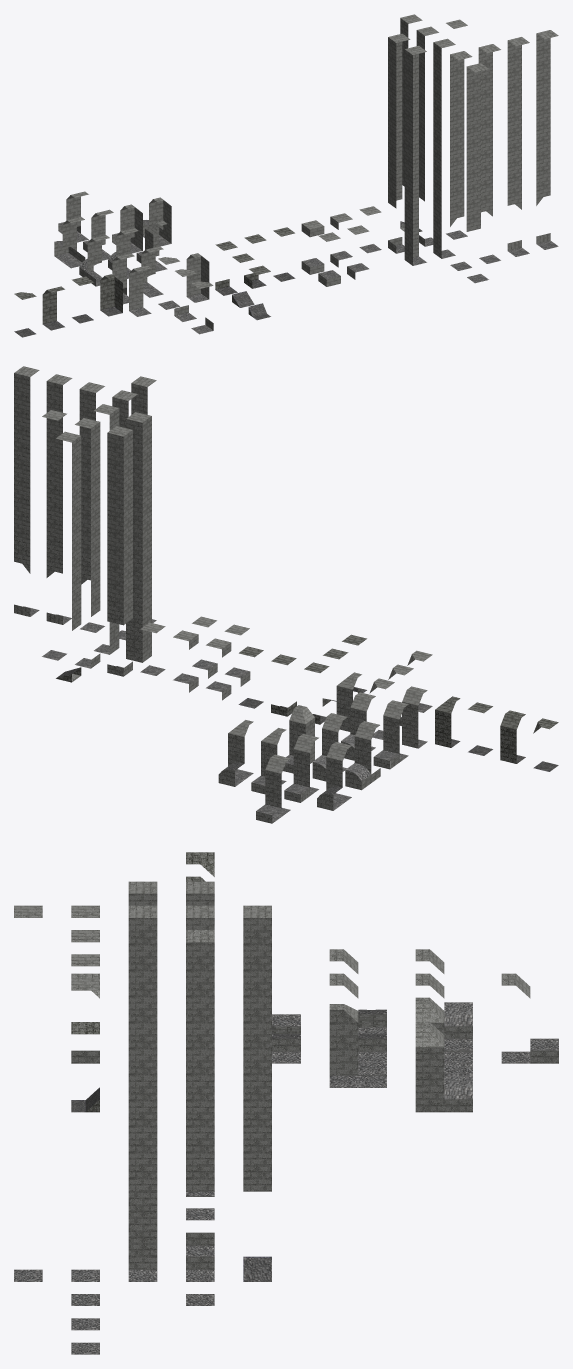
Rendered from tilesets.glb.
The picture shows the model from 3 angles, top to bottom: view 1: azimuth 30°, elevation 25°; view 2: azimuth 150°, elevation 25°; view 3: azimuth 270°, elevation 25°; orthographic projection. The views are drawn at different scales.
Parts seen in each view (by area): view 1: chasm-pool-corner-full-no-cel-col, chasm-pool-wall-corner-n-in-right-col, chasm-pool-wall-corner-n-in-left-col, chasm-pool-corner-no-cel-col, chasm-pool-wall-corner-in-right-col, chasm-pool-wall-col, chasm-pool-wall-corner-in-left-col, chasm-pool-wall-full-no-cel-col, chasm-pool-wall-no-cel-col, pool-wall-full-drain-left-2, pool-corner-in-col.001, pool-wall-full-drain-left-23 (+15 smaller); view 2: chasm-pool-corner-no-cel-col, chasm-pool-corner-full-no-cel-col, chasm-pool-wall-corner-n-in-right-col, chasm-pool-wall-corner-n-in-left-col, chasm-pool-wall-corner-in-left-col, chasm-pool-wall-no-cel-slope, chasm-pool-wall-no-cel-col, pool-wall-full-drain-right-col, pool-wall-full-drain-col, pool-wall-full-drain-right-n-col, pool-wall-full-drain-left-n-col, pool-wall-full-drain-left-2 (+11 smaller); view 3: chasm-pool-wall-full-no-cel-col, chasm-pool-wall-no-cel-slope, chasm-pool-wall-no-cel-col, pool-wall-full-drain-left-23, pool-wall-full-drain-right-n-corner-col, pool-wall-full-drain-left-n-col, pool-wall-full-drain-left-2, chasm-pool-corner-no-cel-col, pool-wall-full-drain-right-TRY, pool-wall-full-drain-left-n-corner-col, pool-wall-full-drain-right-n-col, pool-wall-full-drain-right-col (+10 smaller).
Boxes of the visible parts, x1,y1,x2,y2 form: chasm-pool-corner-full-no-cel-col: (404,45,426,265); chasm-pool-wall-corner-n-in-right-col: (536,30,558,249); chasm-pool-wall-corner-n-in-left-col: (507,37,529,256); chasm-pool-corner-no-cel-col: (388,33,410,253); chasm-pool-wall-corner-in-right-col: (450,51,472,270); chasm-pool-wall-col: (466,63,488,283); chasm-pool-wall-corner-in-left-col: (478,44,500,263); chasm-pool-wall-full-no-cel-col: (433,38,455,258); chasm-pool-wall-no-cel-col: (416,26,438,246); pool-wall-full-drain-left-2: (54,217,85,268); pool-corner-in-col.001: (186,253,209,302); pool-wall-full-drain-left-23: (143,197,171,246); chasm-pool-corner-no-cel-col: (107,426,132,676); chasm-pool-corner-full-no-cel-col: (126,412,151,662); chasm-pool-wall-corner-n-in-right-col: (14,366,39,616); chasm-pool-wall-corner-n-in-left-col: (46,374,72,624); chasm-pool-wall-corner-in-left-col: (79,382,104,632); chasm-pool-wall-no-cel-slope: (56,431,81,682); chasm-pool-wall-no-cel-col: (75,418,100,668); pool-wall-full-drain-right-col: (345,721,380,790); pool-wall-full-drain-col: (373,700,408,769); pool-wall-full-drain-right-n-col: (284,734,318,802); pool-wall-full-drain-left-n-col: (256,754,290,823); pool-wall-full-drain-left-2: (317,742,351,810); chasm-pool-wall-full-no-cel-col: (128,905,157,1281); chasm-pool-wall-no-cel-slope: (243,905,271,1281); chasm-pool-wall-no-cel-col: (186,905,214,1281); pool-wall-full-drain-left-23: (415,1022,472,1112); pool-wall-full-drain-right-n-corner-col: (329,1004,386,1087); pool-wall-full-drain-left-n-col: (501,973,558,1063); pool-wall-full-drain-left-2: (415,949,472,1038); chasm-pool-corner-no-cel-col: (186,881,214,1256); pool-wall-full-drain-right-TRY: (329,973,386,1062); pool-wall-full-drain-left-n-corner-col: (415,997,472,1074); pool-wall-full-drain-right-n-col: (415,973,472,1062); pool-wall-full-drain-right-col: (329,949,386,1034).
Size of what is drawn, in the model's own units: 35 by 14 by 19.
Materials: 38 (38 with a texture image).
